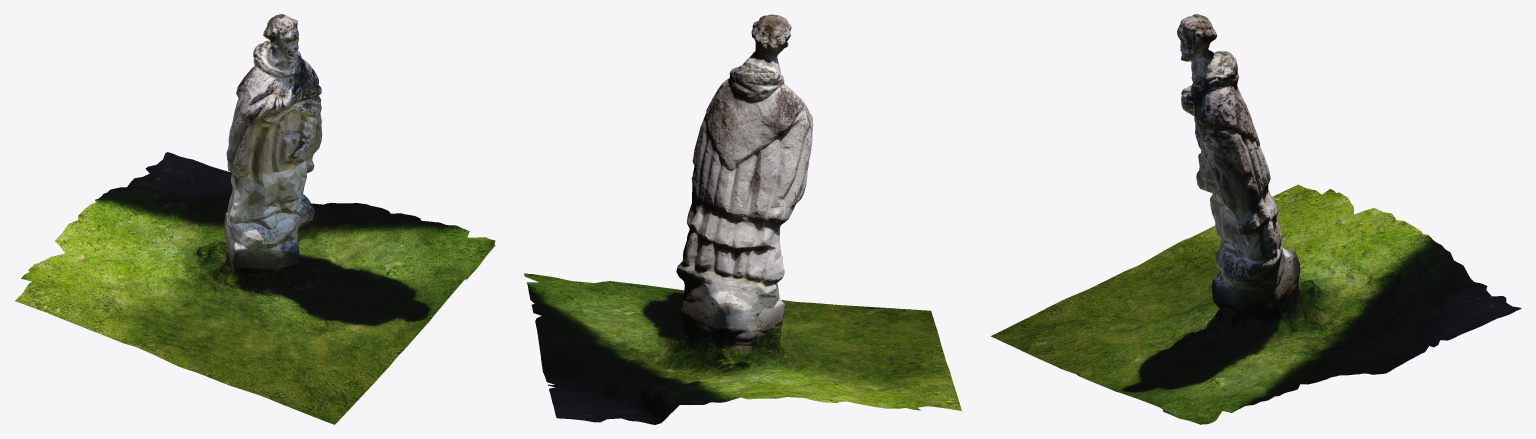
File: 9-estatuaFinal2.glb
3 renders of one model, left to right at view 1: azimuth 30°, elevation 25°; view 2: azimuth 150°, elevation 25°; view 3: azimuth 270°, elevation 25°, orthographic. The views are drawn at different scales.
Parts seen in each view (by area): view 1: Mesh_1.003, Mesh_0.003, Mesh_2.003; view 2: Mesh_0.003, Mesh_1.003, Mesh_2.003; view 3: Mesh_1.003, Mesh_0.003, Mesh_2.003.
Boxes of the visible parts, left/top/right/bottom form: Mesh_1.003: left=180, top=14, right=495, bottom=424; Mesh_0.003: left=15, top=92, right=276, bottom=366; Mesh_2.003: left=236, top=14, right=322, bottom=270; Mesh_0.003: left=544, top=87, right=961, bottom=424; Mesh_1.003: left=524, top=14, right=945, bottom=373; Mesh_2.003: left=676, top=15, right=807, bottom=347; Mesh_1.003: left=991, top=15, right=1395, bottom=424; Mesh_0.003: left=1140, top=85, right=1521, bottom=367; Mesh_2.003: left=1182, top=14, right=1295, bottom=323.
Size of the model in its own units: 8.79 by 6.27 by 8.78.
Materials: 3 (3 with a texture image).
